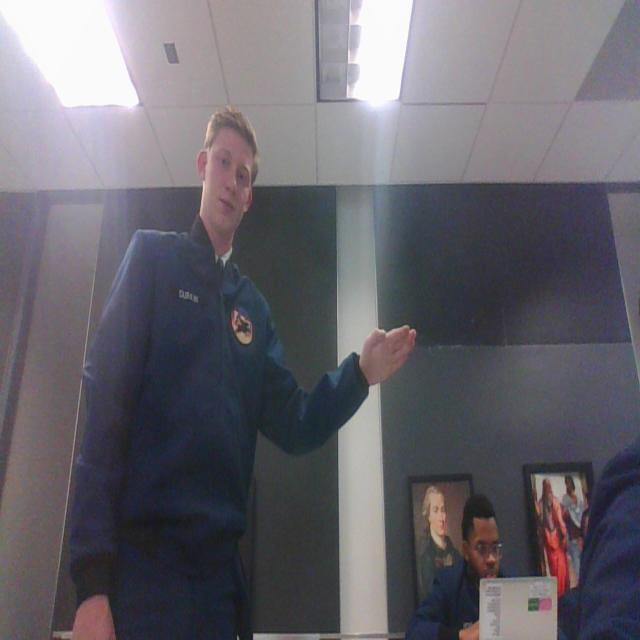paper: (356, 319, 421, 388)
